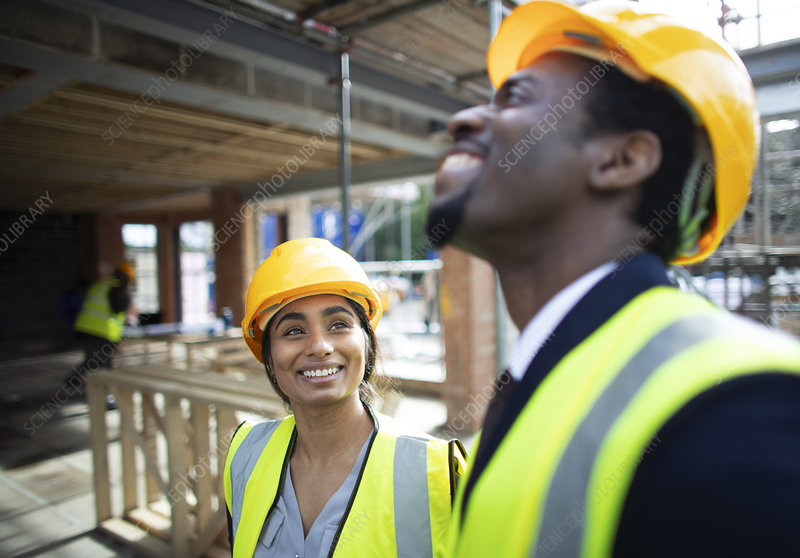cap: (464, 2, 792, 272), (215, 233, 416, 342)
jacket: (455, 284, 800, 558), (204, 407, 460, 558)
